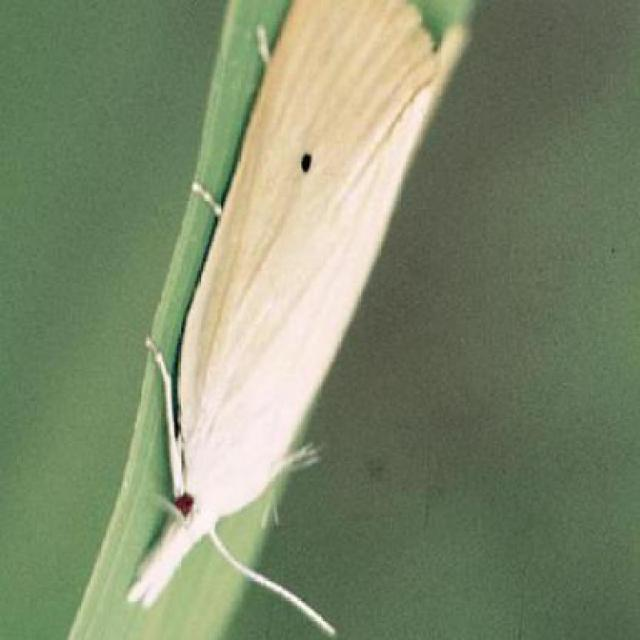stem-borer: (123, 0, 475, 620)
